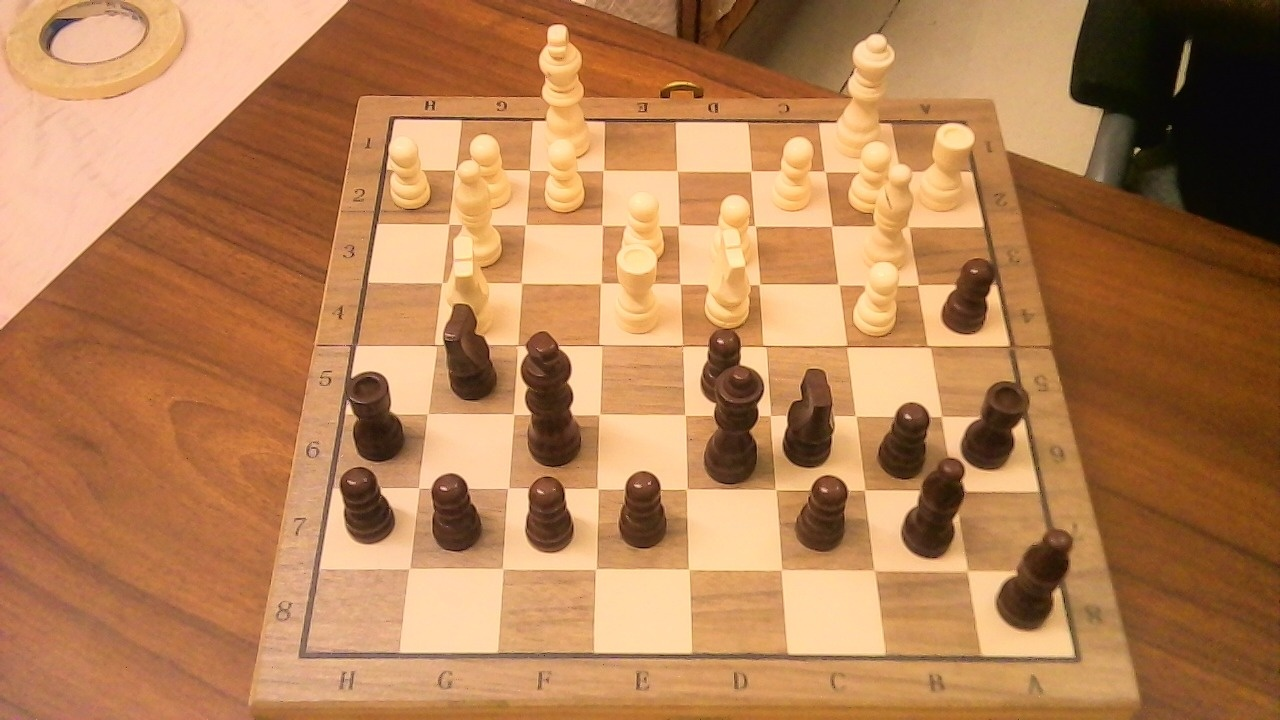B: (855, 154, 924, 275), (448, 148, 513, 271)
K: (533, 14, 597, 163)
N: (692, 238, 759, 328), (454, 230, 499, 315)
P: (610, 181, 671, 279), (841, 132, 904, 218), (764, 127, 823, 216), (458, 126, 518, 213), (849, 252, 907, 340), (535, 129, 591, 217), (382, 129, 437, 211), (705, 187, 758, 267)
Q: (829, 22, 900, 164)
R: (917, 111, 984, 218), (606, 232, 669, 340)
b: (994, 514, 1085, 632), (895, 445, 979, 564)
k: (517, 321, 594, 469)
n: (435, 289, 508, 404), (780, 354, 848, 470)
p: (330, 456, 406, 548), (421, 462, 493, 553), (789, 463, 860, 554), (937, 247, 1007, 338), (692, 319, 755, 407), (880, 400, 942, 480), (618, 470, 668, 550), (522, 477, 576, 550)
q: (695, 353, 774, 487)
r: (963, 368, 1038, 472), (342, 359, 414, 464)
